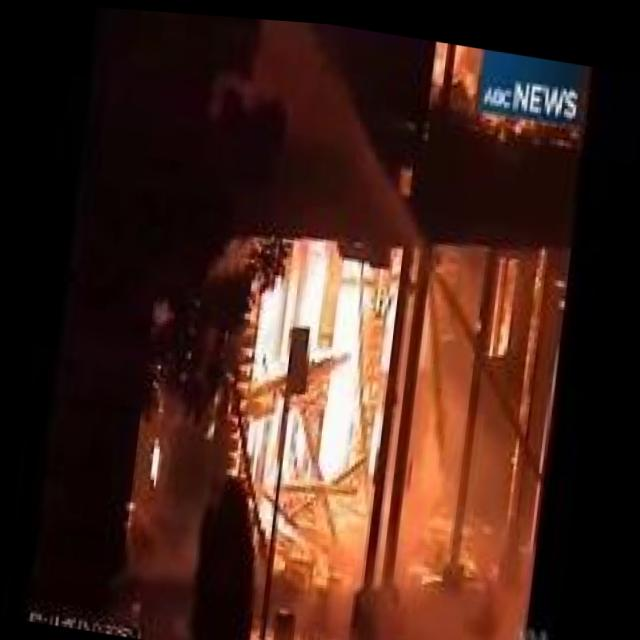fire: (223, 217, 427, 545)
